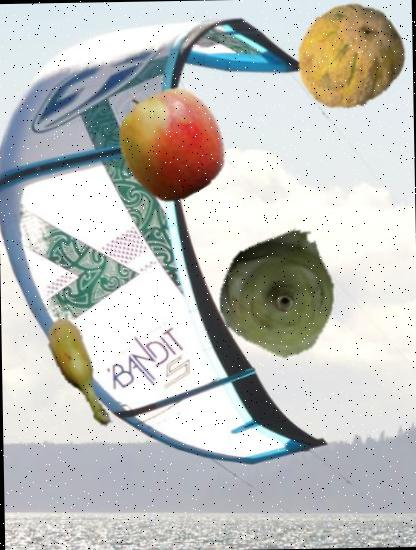Apple: (113, 84, 228, 200)
Banana: (19, 314, 138, 434)
Cantaloupe: (291, 0, 406, 112)
Kohlrabi: (218, 226, 348, 356)
